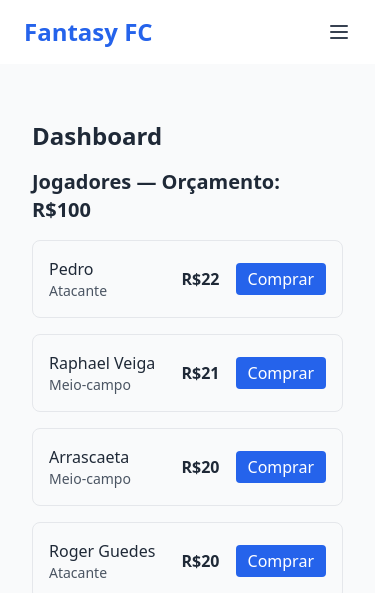
Scenario: Fluxo de Compra de Jogador no Mobile › Deve comprar o jogador Pedro e verificar se ele está no Meu Time
Expected: the text "Pedro" is shown, top-left (49, 258), bottom-right (94, 280)
Click the button "Comprar" next to "22" at (282, 279), box top-left (236, 263), bottom-right (327, 295)
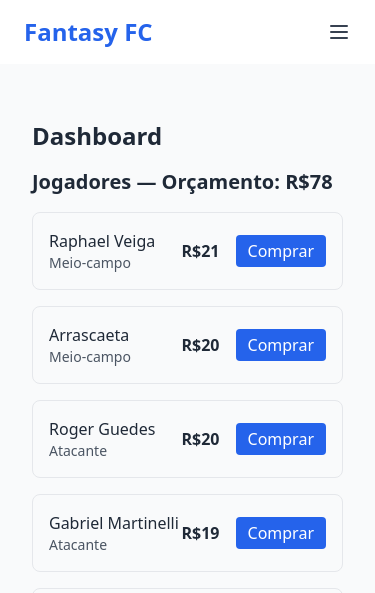
Expected: the text "Pedro" is gone
Click the button named "Toggle menu" at (339, 32), box top-left (327, 20), bottom-right (351, 44)
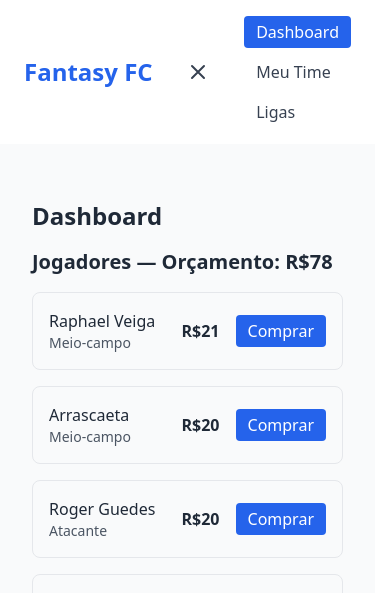
Click the link "Meu Time" at (294, 72), box top-left (256, 61), bottom-right (331, 83)
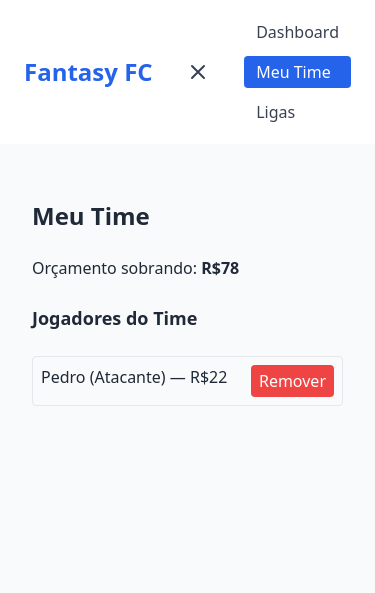
Expected: the text "Orçamento sobrando:" shows "R$78", top-left (32, 257), bottom-right (201, 279)
Expected: the list item "Pedro (Atacante) — R$22" is shown, top-left (32, 356), bottom-right (343, 406)
